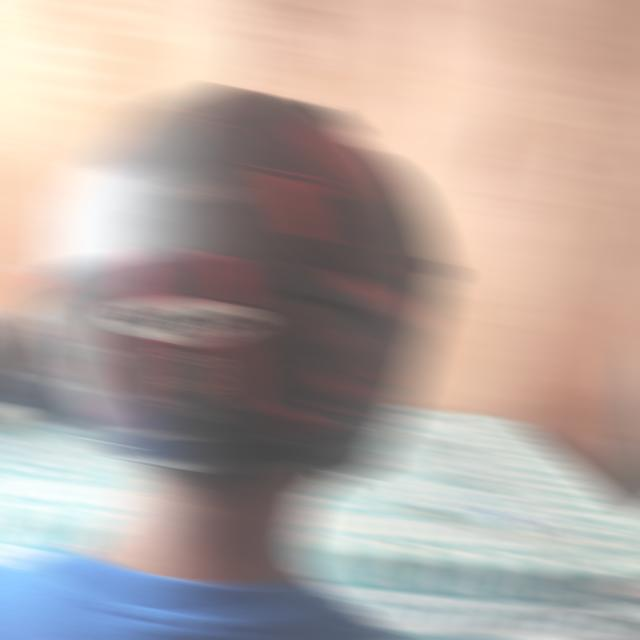With Helmet: (32, 83, 453, 488)
